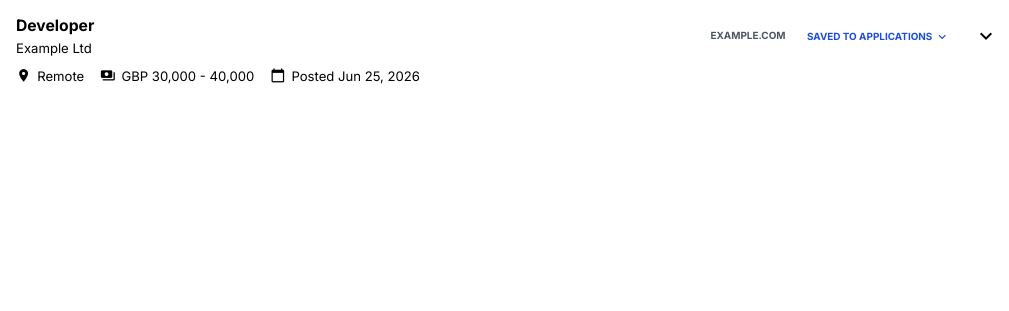
Test: JobCardComponent › shows a saved job accurately and still allows document generation
This screenshot has width=1009, height=311.
Click the button "Developer Example Ltd": point(55, 25) top-left (16, 14), bottom-right (688, 58)
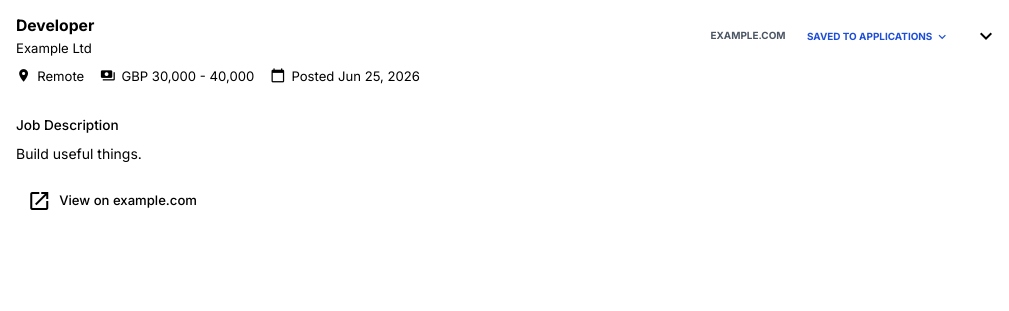
expect the text "Saved to applications" is shown: met, box top-left (807, 32), bottom-right (932, 42)
Click the button with class "status-dropdown": point(878, 37) top-left (800, 26), bottom-right (956, 49)
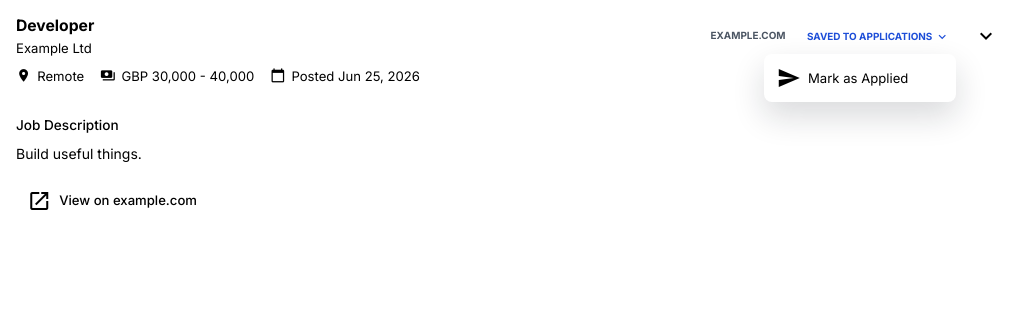
expect the text "Mark as Applied" is shown: met, box top-left (768, 58), bottom-right (952, 98)
